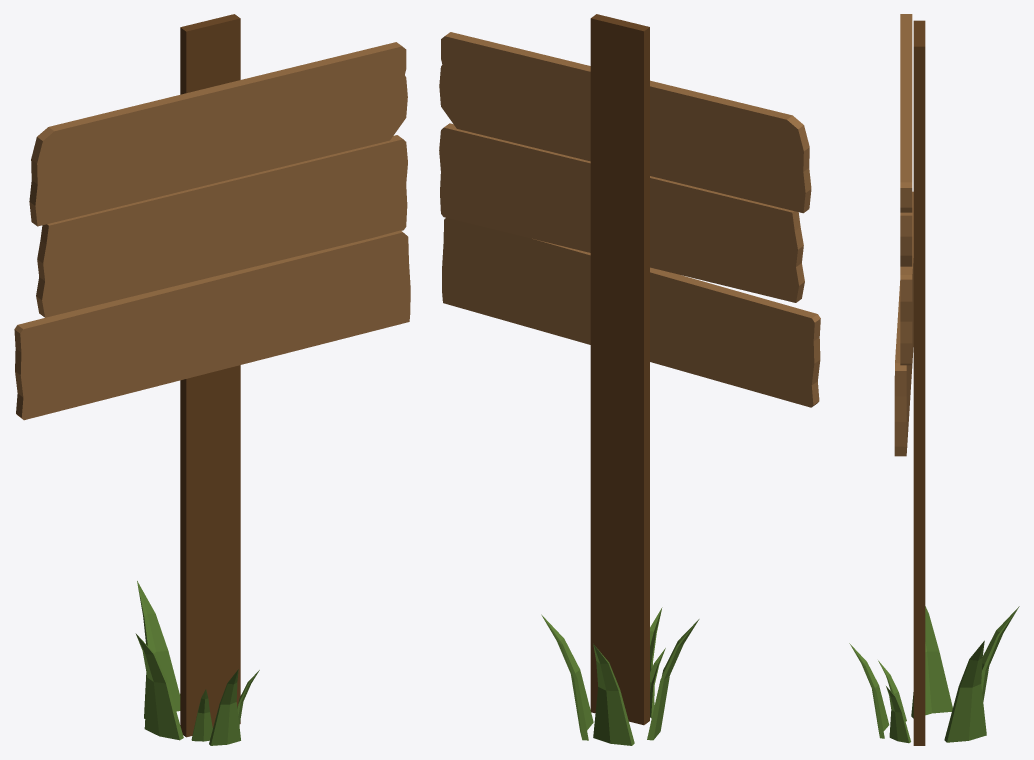
File: Prop_WarningSign_Slime.glb
3 renders of one model, left to right at view 1: azimuth 30°, elevation 25°; view 2: azimuth 150°, elevation 25°; view 3: azimuth 270°, elevation 25°, orthographic.
Parts seen in each view (by area): view 1: Sign7; view 2: Sign7; view 3: Sign7.
Boxes of the visible parts, left/top/right/bottom form: Sign7: left=14, top=14, right=410, bottom=745; Sign7: left=439, top=14, right=820, bottom=745; Sign7: left=849, top=14, right=1019, bottom=745.
Bounding box in the file's own units: 1.13 × 1.98 × 0.4385.
